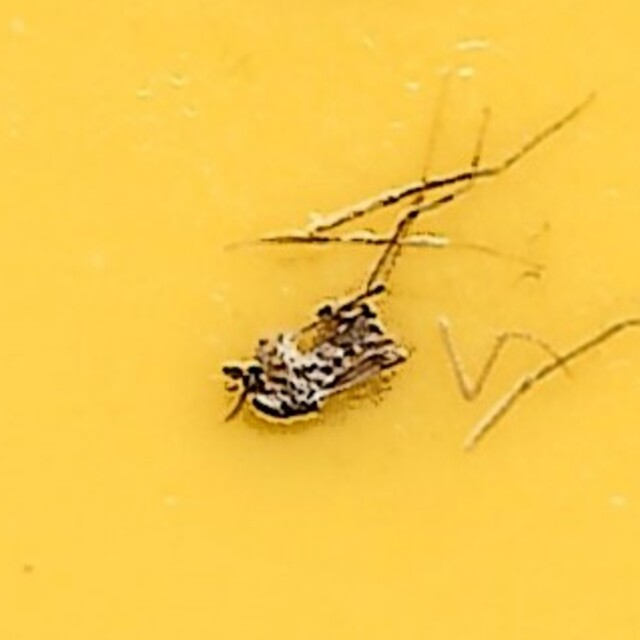Nematocera: (201, 213, 439, 427)
